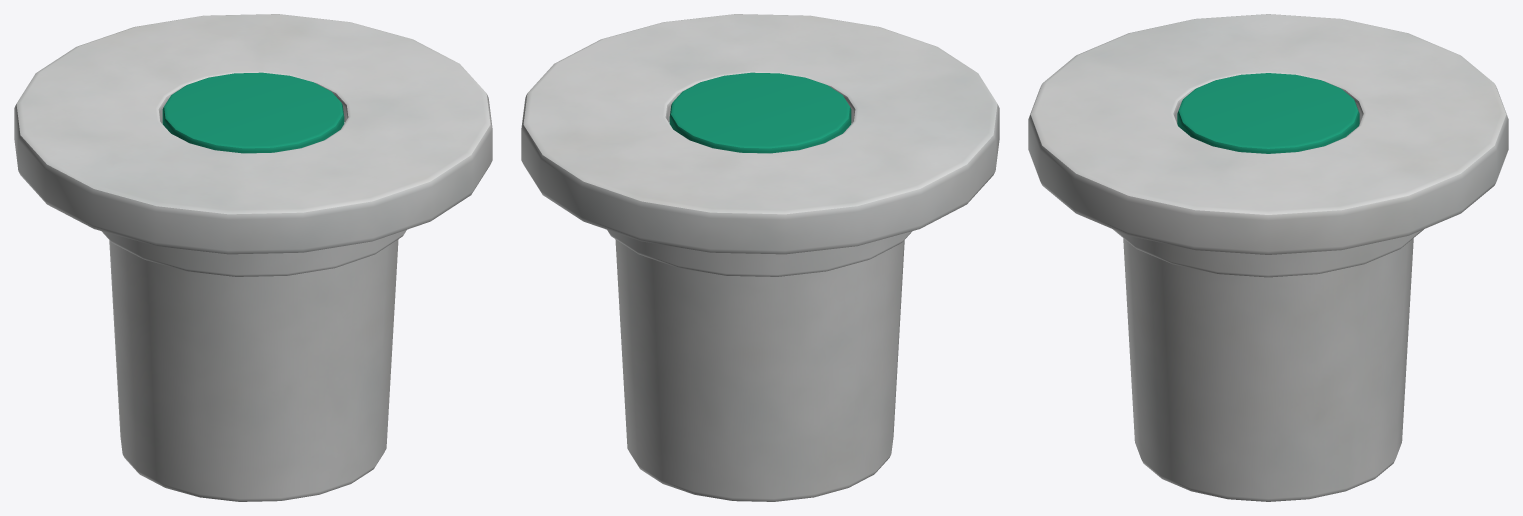
Rendered from volumetric_flask_500ml_ADAP.glb.
3 renders of one model, left to right at view 1: azimuth 30°, elevation 25°; view 2: azimuth 150°, elevation 25°; view 3: azimuth 270°, elevation 25°, orthographic.
Visible parts, largest first — view 1: Tampa_500mL; view 2: Tampa_500mL; view 3: Tampa_500mL.
Part boxes in pixels (x1,y1,x2,y2): Tampa_500mL: (14, 14, 492, 501); Tampa_500mL: (521, 14, 999, 501); Tampa_500mL: (1028, 14, 1508, 501).
Bounding box in the file's own units: 0.0637 × 0.0495 × 0.0637.
Materials: 1 (1 with a texture image).
